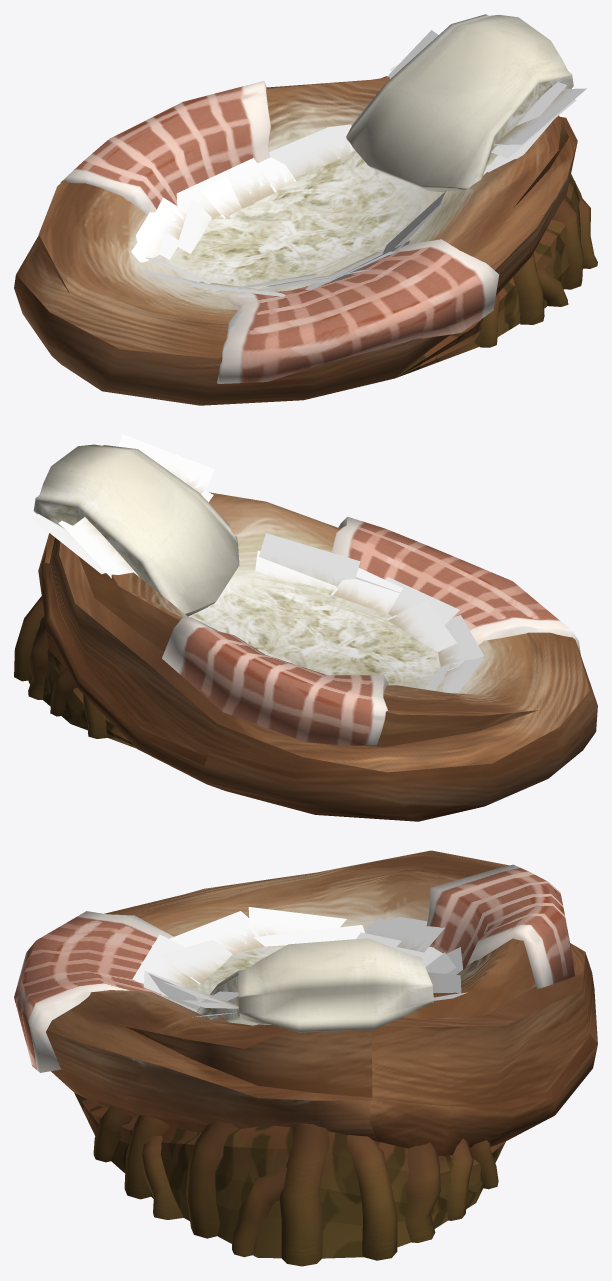
Rendered from Nest.FBX.
The picture shows the model from 3 angles, top to bottom: view 1: azimuth 30°, elevation 25°; view 2: azimuth 150°, elevation 25°; view 3: azimuth 270°, elevation 25°; orthographic projection. The views are drawn at different scales.
Visible parts, largest first — view 1: lit; view 2: lit; view 3: lit.
Boxes of the visible parts, x1,y1,x2,y2 form: lit: [14, 14, 597, 405]; lit: [14, 434, 597, 821]; lit: [14, 850, 597, 1266].
Bounding box in the file's own units: 312 × 121 × 236.
